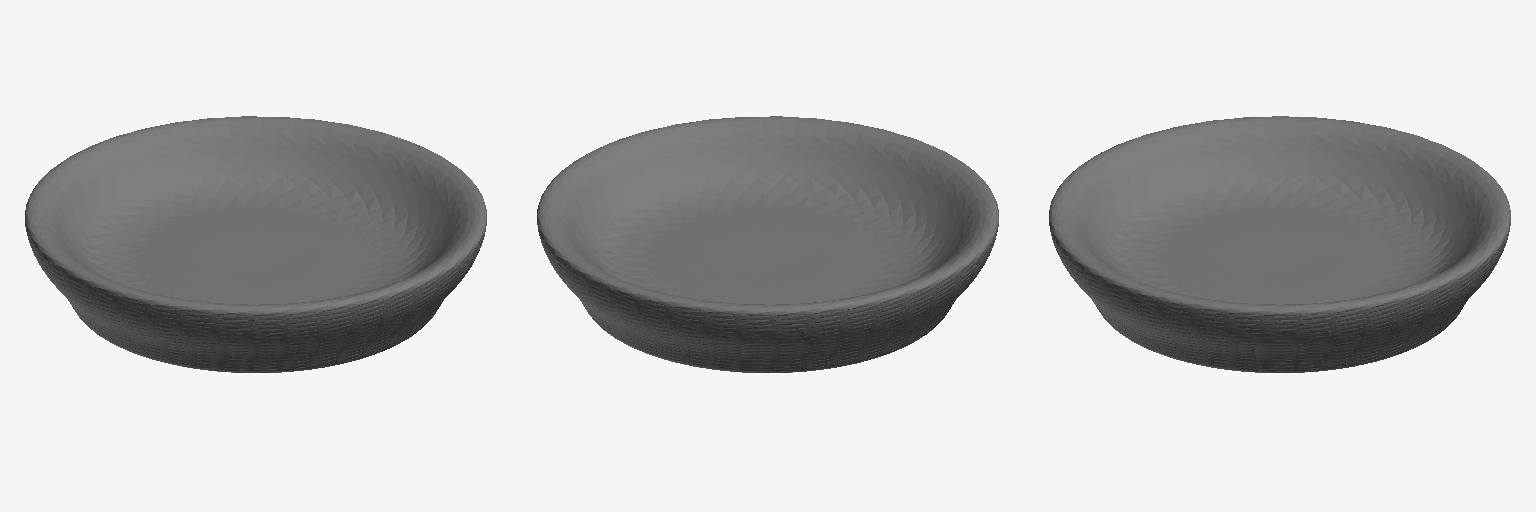
File: Bowl_Hi_Poly.obj
3 renders of one model, left to right at view 1: azimuth 30°, elevation 25°; view 2: azimuth 150°, elevation 25°; view 3: azimuth 270°, elevation 25°, orthographic.
Visible parts, largest first — view 1: pCylinder2; view 2: pCylinder2; view 3: pCylinder2.
Boxes of the visible parts, x1=… form: pCylinder2: x1=25, y1=116, x2=486, y2=372; pCylinder2: x1=537, y1=116, x2=998, y2=372; pCylinder2: x1=1049, y1=116, x2=1510, y2=372.
Size of the model in its own units: 1.1 by 0.2312 by 1.1.